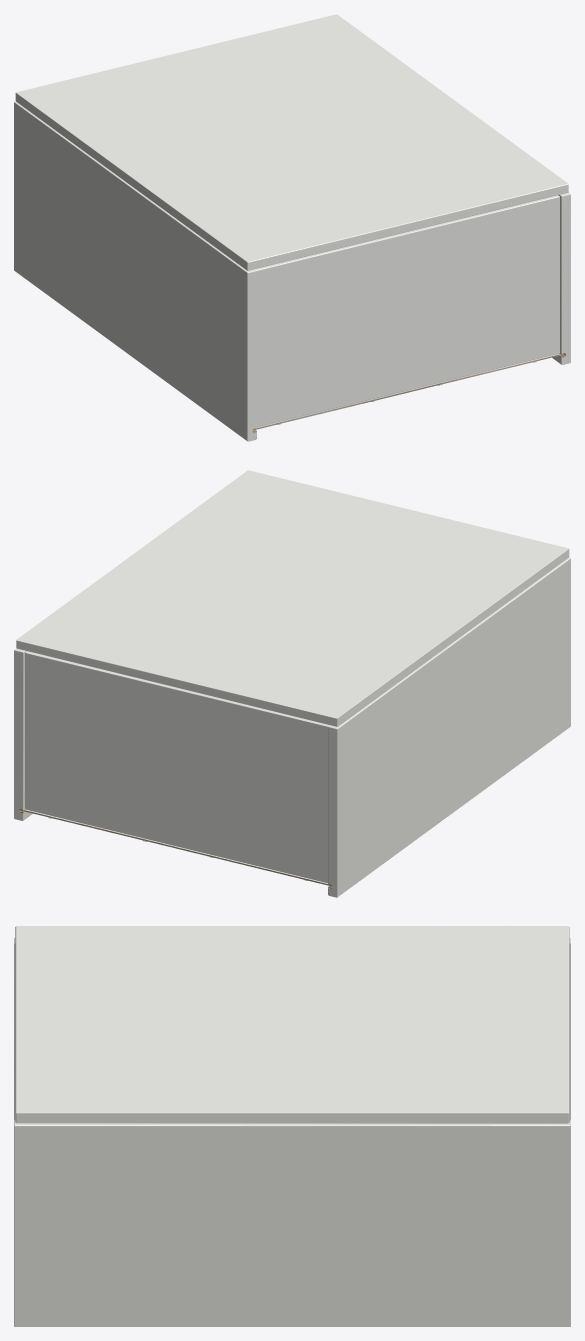
The model's file is enhet_szafka_wiszaca_z_drzwiczkami_40623025.glb.
The picture shows the model from 3 angles, top to bottom: view 1: azimuth 30°, elevation 25°; view 2: azimuth 150°, elevation 25°; view 3: azimuth 270°, elevation 25°; orthographic projection. The views are drawn at different scales.
Parts seen in each view (by area): view 1: enhet_szafka_wiszaca_z_drzwiczkami_40623025; view 2: enhet_szafka_wiszaca_z_drzwiczkami_40623025; view 3: enhet_szafka_wiszaca_z_drzwiczkami_40623025.
Boxes of the visible parts, x1,y1,x2,y2 form: enhet_szafka_wiszaca_z_drzwiczkami_40623025: (14, 14, 570, 441); enhet_szafka_wiszaca_z_drzwiczkami_40623025: (14, 470, 570, 897); enhet_szafka_wiszaca_z_drzwiczkami_40623025: (14, 926, 570, 1326).
Size of the model in its own units: 0.6 by 0.3174 by 0.75.
Materials: 1 (1 with a texture image).
